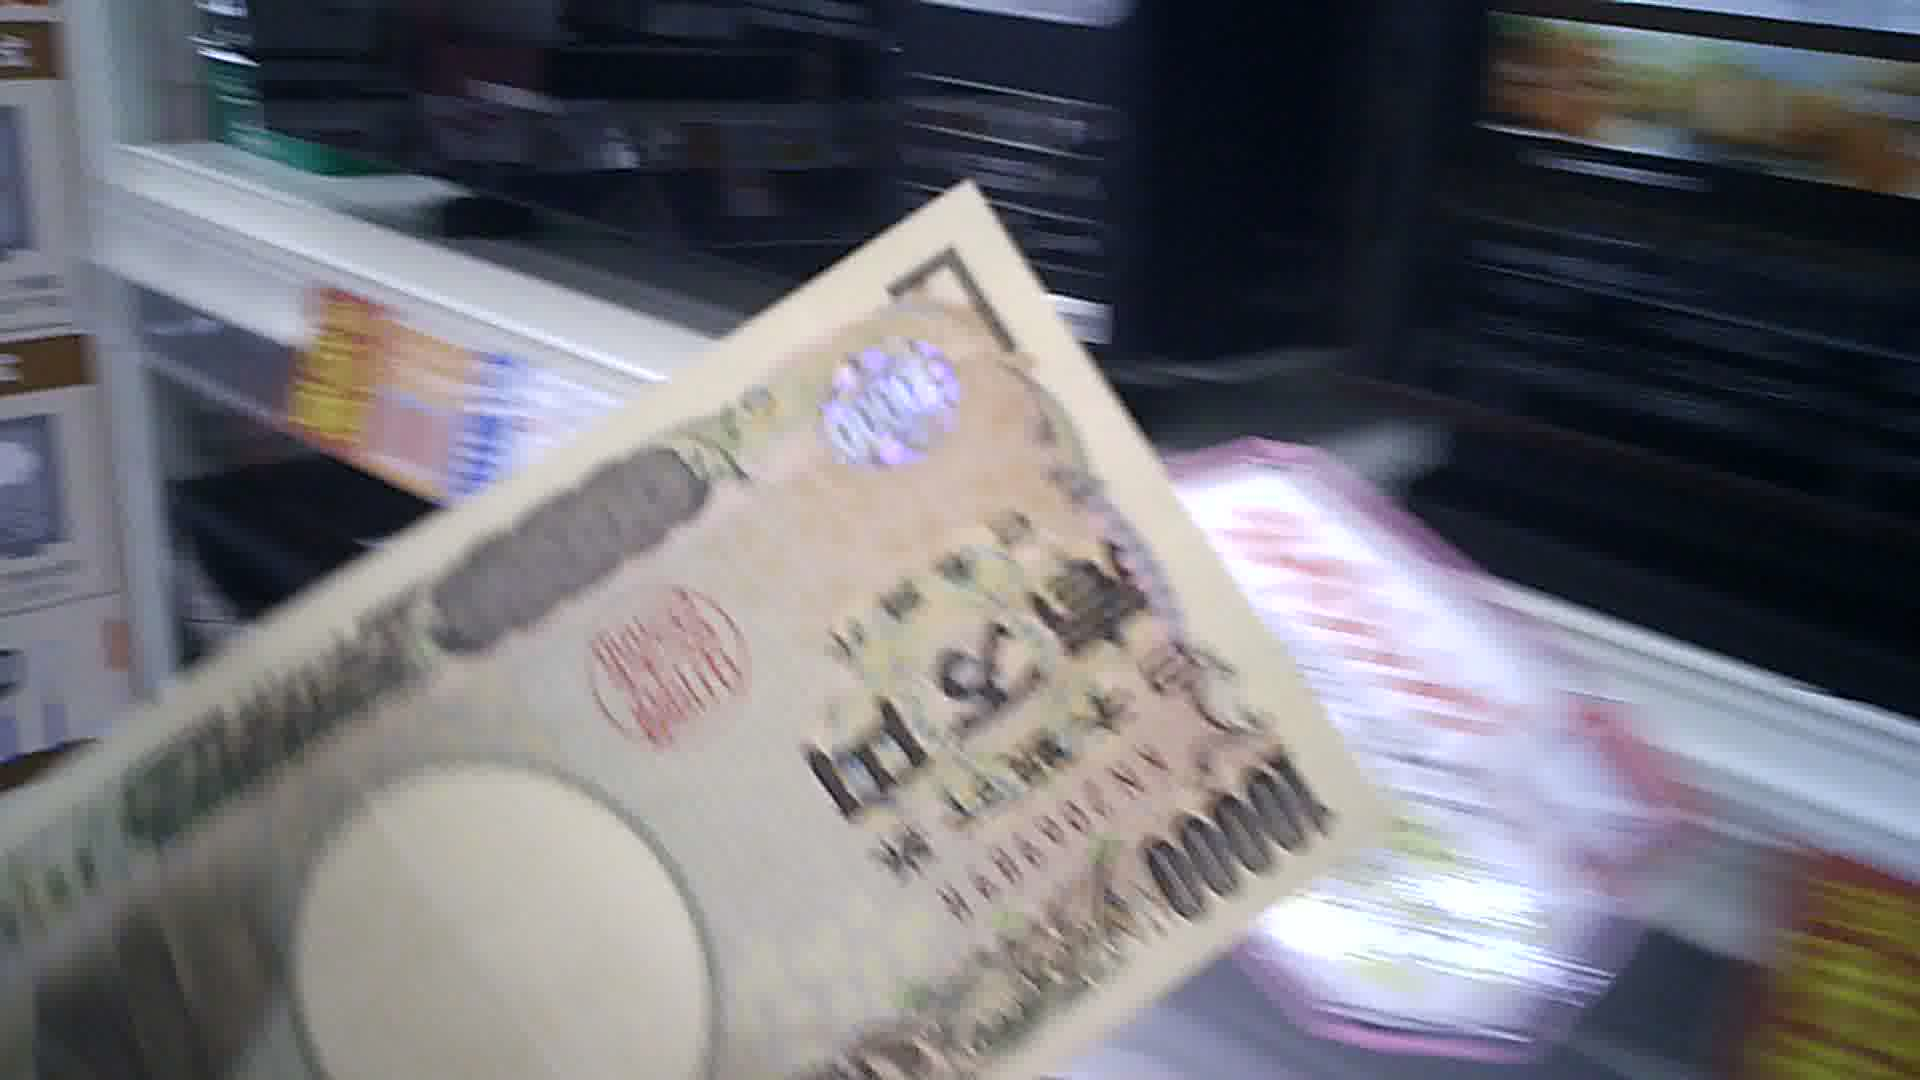10,000 Yen: (66, 202, 1350, 1079)
